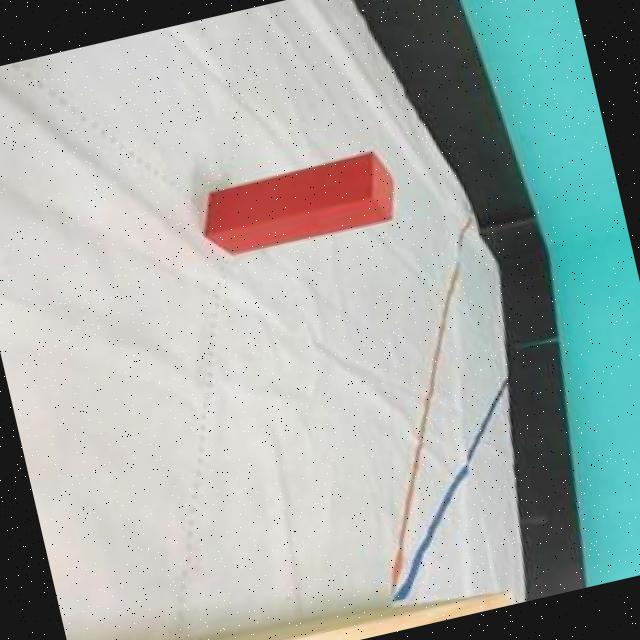redbox: (192, 147, 404, 262)
